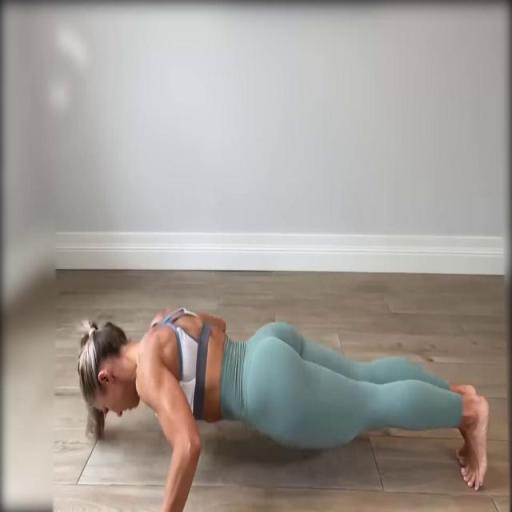Normal_BrenchPress: (77, 305, 490, 510)
